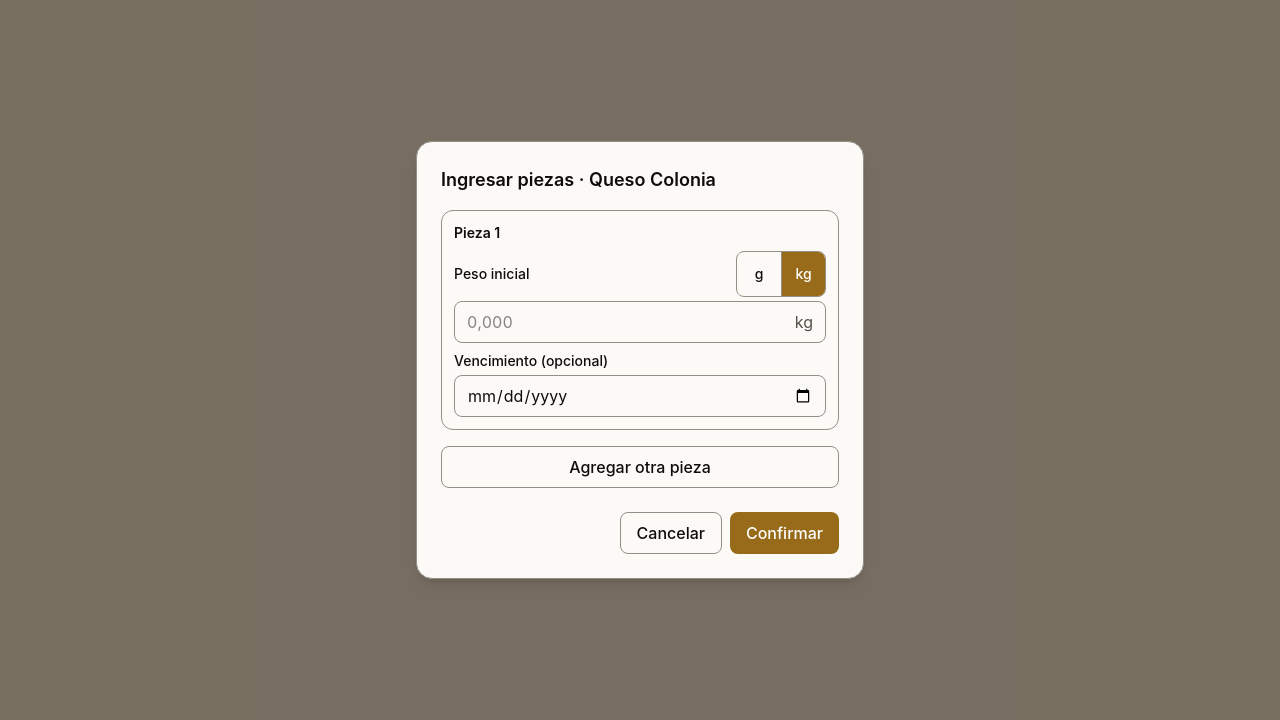
Test: ModalIngresarPiezas › error tipado (IngresoInvalidoError): muestra toast de error y no cierra el modal
Step 1. Type "2" into the field labelled "Peso inicial" → (629, 322), box [467, 310, 791, 334]
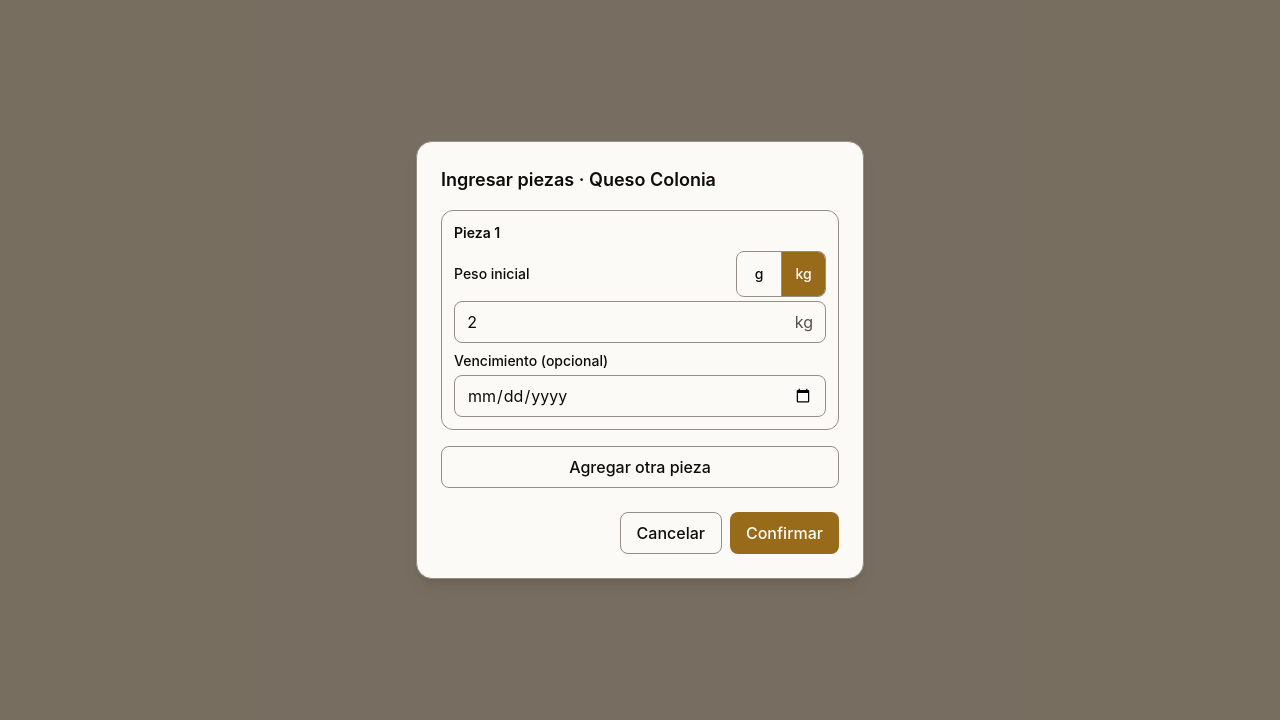
Step 2. Click the button "Confirmar" → (784, 533), box [730, 512, 839, 554]
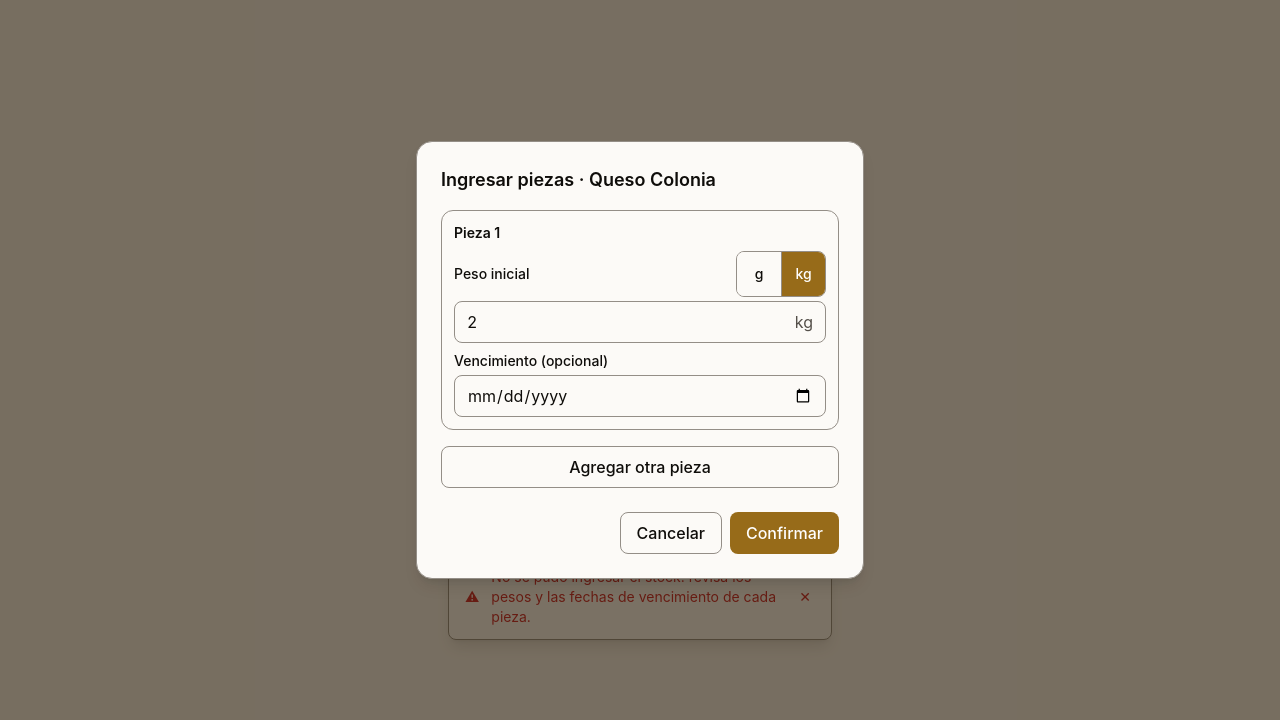
Expected: the text "No se pudo ingresar el stock: revisá los pesos y las fechas de vencimiento de cada pieza." is shown, [491, 568, 776, 625]
